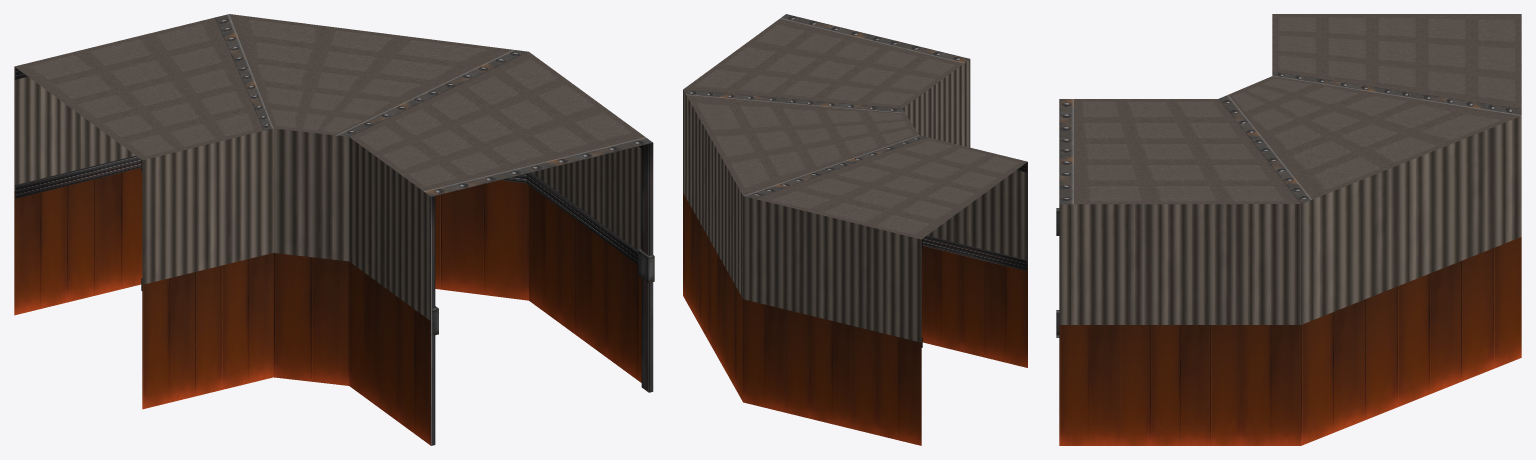
Rendered from molten_hall_left.fbx.
The picture shows the model from 3 angles, left to right: view 1: azimuth 30°, elevation 25°; view 2: azimuth 150°, elevation 25°; view 3: azimuth 270°, elevation 25°; orthographic projection. The views are drawn at different scales.
Parts seen in each view (by area): view 1: hall_left, hall_left_roof, ReinforcedBars; view 2: hall_left, hall_left_roof, ReinforcedBars; view 3: hall_left, hall_left_roof.
Boxes of the visible parts, bbox=[...] form: hall_left: bbox=[14, 67, 641, 445]; hall_left_roof: bbox=[14, 14, 652, 196]; ReinforcedBars: bbox=[14, 67, 654, 445]; hall_left: bbox=[683, 59, 1027, 445]; hall_left_roof: bbox=[683, 14, 1027, 239]; ReinforcedBars: bbox=[921, 162, 1027, 347]; hall_left: bbox=[1059, 116, 1521, 445]; hall_left_roof: bbox=[1059, 14, 1521, 204].
Bounding box in the file's own units: 3274 × 1942 × 3384.
